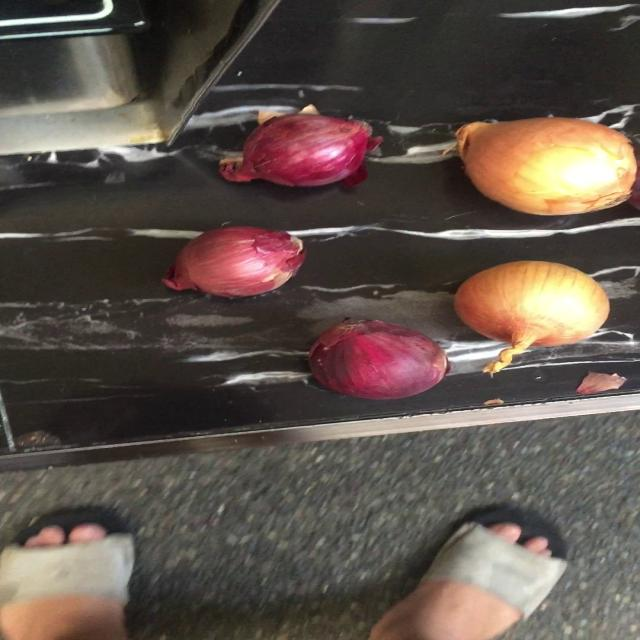Onion: (456, 117, 638, 215), (455, 261, 609, 373), (218, 105, 382, 186), (309, 319, 449, 400), (161, 226, 304, 297)
